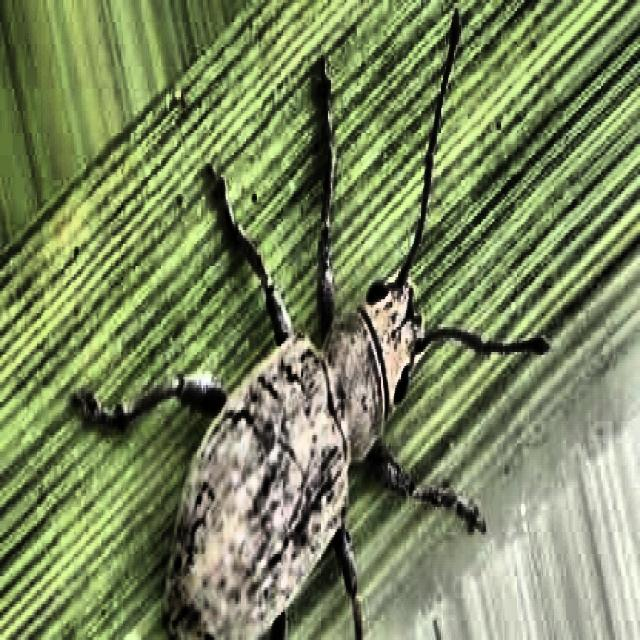Stink bug: (191, 175, 434, 640)
